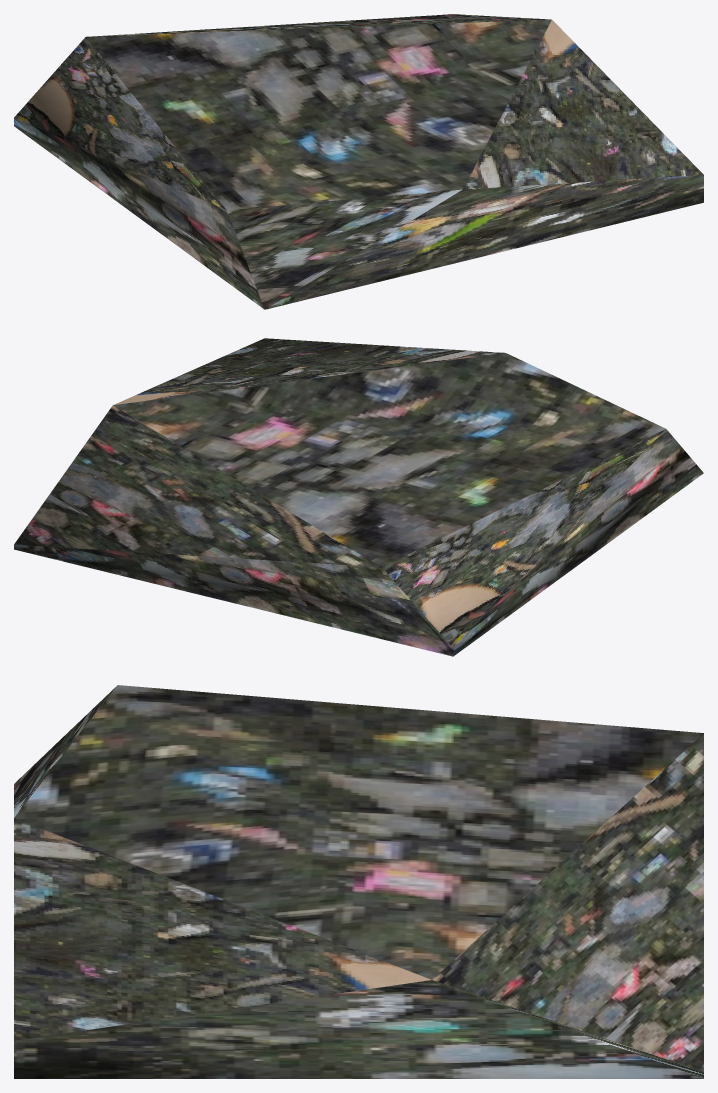
File: psx trash.fbx
3 views of the same model, one above another, from view 1: azimuth 30°, elevation 25°; view 2: azimuth 150°, elevation 25°; view 3: azimuth 270°, elevation 25° (orthographic). The views are drawn at different scales.
Parts seen in each view (by area): view 1: Cube; view 2: Cube; view 3: Cube.
Part boxes in pixels (box(x1,y1,x2,y2)): Cube: box(14, 14, 703, 309); Cube: box(14, 338, 703, 656); Cube: box(14, 685, 703, 1078).
Size of the model in its own units: 328 by 51.3 by 324.
Materials: 1 (1 with a texture image).
